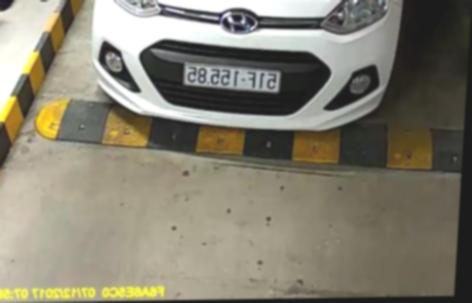License_Plate: (180, 53, 285, 98)
